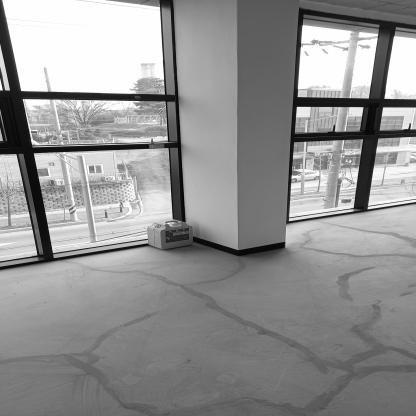DDL: (147, 220, 194, 250)
